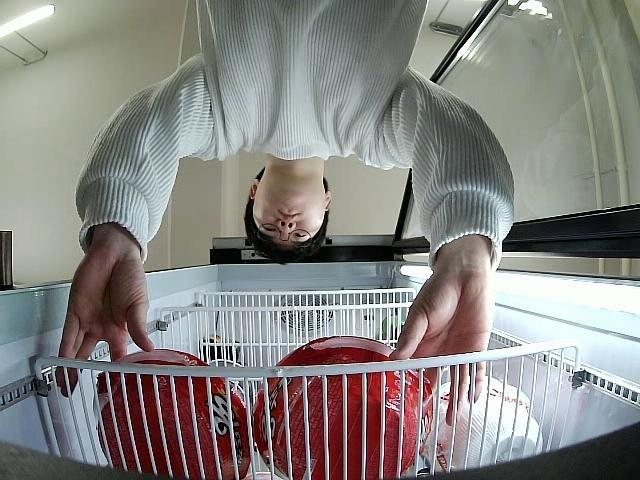10_wangTtukkeong: (257, 335, 435, 480), (88, 349, 252, 480)
